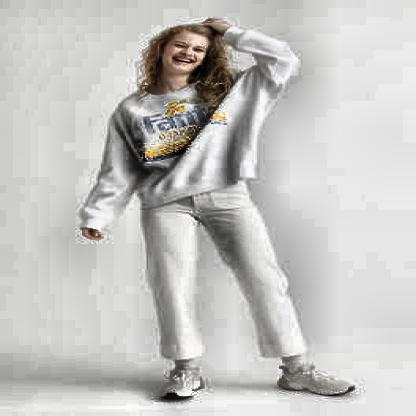sweater: (79, 27, 297, 228)
trousers: (136, 180, 313, 361)
